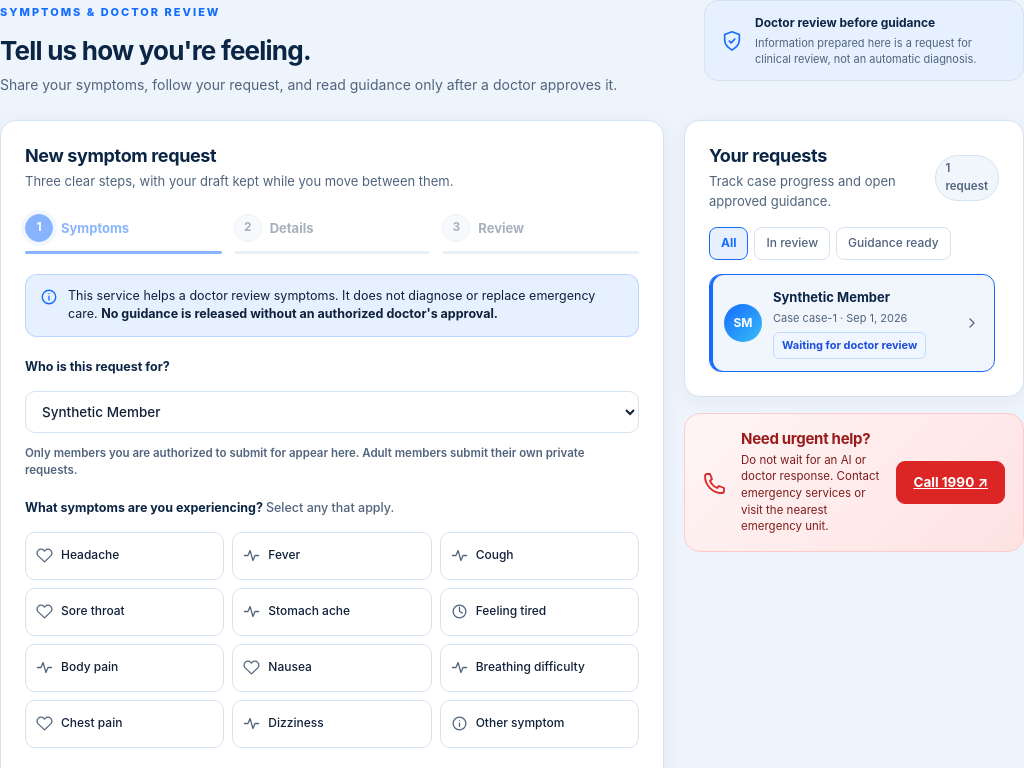
TriagePage › shows an explicit retry when a progress request fails
This screenshot has width=1024, height=768.
Click the button that starts with "Synthetic Member": (852, 323) top-left (709, 274), bottom-right (995, 372)
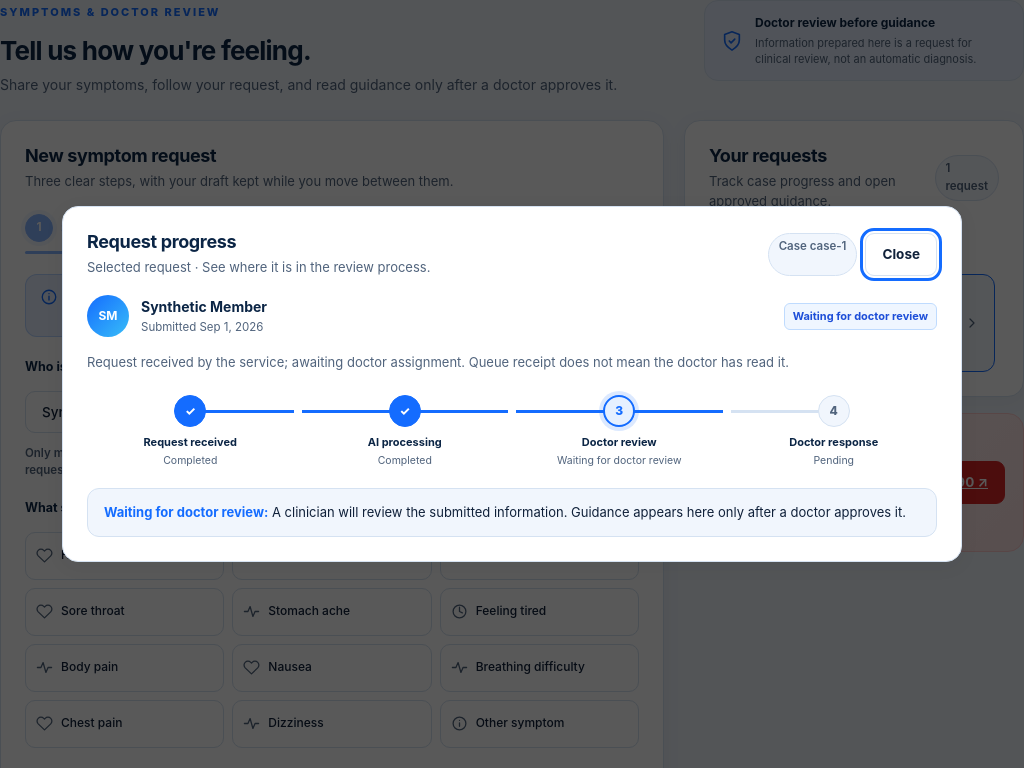
Expected: the dialog is shown, top-left (62, 206), bottom-right (962, 562)
Expected: the text "Doctor review" is shown, top-left (582, 435), bottom-right (657, 449)
